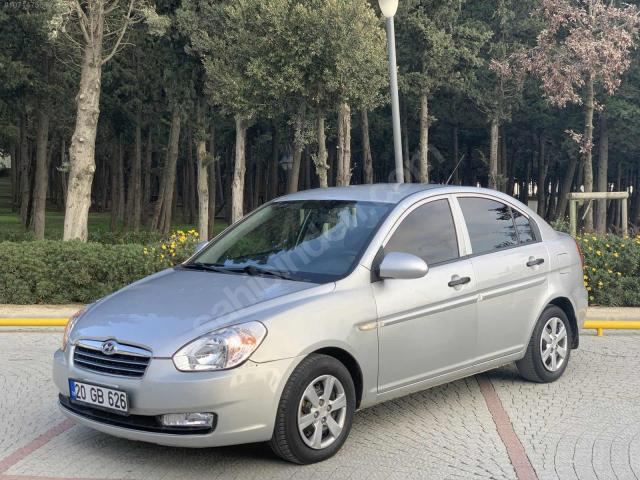plaka: (70, 381, 128, 412)
